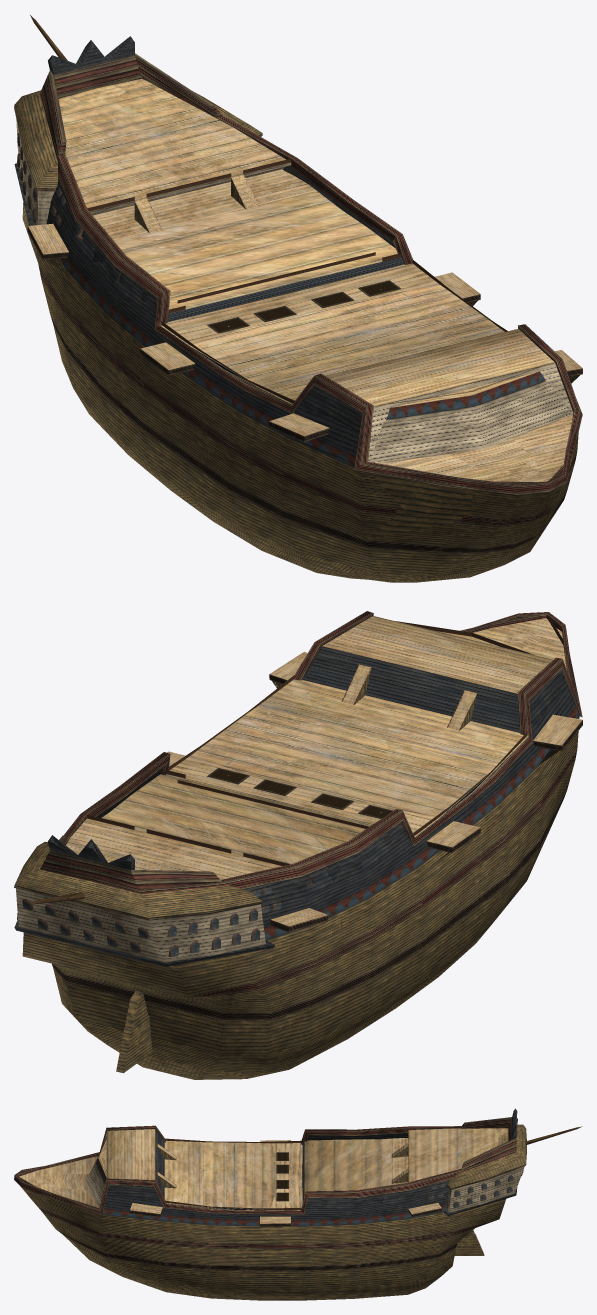
The model's file is pir_m_shp_cas_goliath.fbx.
3 views of the same model, one above another, from view 1: azimuth 30°, elevation 25°; view 2: azimuth 150°, elevation 25°; view 3: azimuth 270°, elevation 25° (orthographic). The views are drawn at different scales.
Visible parts, largest first — view 1: deck.004, deck.003, hull_wood_bottom.001, trim_stripe_right.001, hull_wood_C.001, hull_wood_A.001, bulwark_front.002, deck.002, hull_wood_A.002, hull_wood_C.002, hull_wood_bottom.002, hull_wood_B.001 (+23 smaller); view 2: deck.004, deck.003, hull_wood_bottom.001, hull_wood_bottom.002, hull_wood_C.002, cabin_walls, trim_stripe_right.001, hull_wood_C.001, bulwark_back1.002, hull_wood_A.001, wall_capt_quart_A2.001, hull_wood_A.002 (+20 smaller); view 3: deck.004, hull_wood_bottom.001, deck.003, hull_wood_C.001, trim_stripe_right.001, hull_wood_C.002, hull_wood_A.001, hull_wood_A.002, hull_wood_B12.002, hull_wood_bottom.002, hull_stripe_A_1.001, hull_wood_B12.001 (+17 smaller).
Boxes of the visible parts, left/top/right/bottom form: deck.004: left=65, top=150, right=572, bottom=481; deck.003: left=58, top=78, right=538, bottom=479; hull_wood_bottom.001: left=53, top=325, right=562, bottom=576; trim_stripe_right.001: left=57, top=75, right=582, bottom=494; hull_wood_C.001: left=38, top=253, right=562, bottom=519; hull_wood_A.001: left=41, top=279, right=564, bottom=547; bulwark_front.002: left=370, top=383, right=571, bottom=463; deck.002: left=58, top=78, right=538, bottom=407; hull_wood_A.002: left=142, top=391, right=574, bottom=543; hull_wood_C.002: left=22, top=202, right=578, bottom=516; hull_wood_bottom.002: left=217, top=512, right=529, bottom=582; hull_wood_B.001: left=48, top=178, right=359, bottom=456; deck.004: left=65, top=616, right=566, bottom=879; deck.003: left=66, top=630, right=538, bottom=879; hull_wood_bottom.001: left=195, top=849, right=539, bottom=1079; hull_wood_bottom.002: left=53, top=804, right=561, bottom=1079; hull_wood_C.002: left=22, top=716, right=579, bottom=996; cabin_walls: left=16, top=888, right=265, bottom=962; trim_stripe_right.001: left=63, top=611, right=582, bottom=889; hull_wood_C.001: left=250, top=766, right=540, bottom=981; bulwark_back1.002: left=302, top=646, right=520, bottom=732; hull_wood_A.001: left=261, top=810, right=541, bottom=1012; wall_capt_quart_A2.001: left=15, top=841, right=262, bottom=917; hull_wood_A.002: left=53, top=760, right=575, bottom=1012; deck.004: left=19, top=1129, right=461, bottom=1210; hull_wood_bottom.001: left=63, top=1235, right=438, bottom=1300; deck.003: left=31, top=1128, right=507, bottom=1210; hull_wood_C.001: left=21, top=1187, right=456, bottom=1243; trim_stripe_right.001: left=14, top=1125, right=508, bottom=1215; hull_wood_C.002: left=43, top=1196, right=505, bottom=1243; hull_wood_A.001: left=43, top=1213, right=449, bottom=1266; hull_wood_A.002: left=54, top=1217, right=474, bottom=1266; hull_wood_B12.002: left=104, top=1179, right=450, bottom=1220; hull_wood_bottom.002: left=90, top=1248, right=455, bottom=1298; hull_stripe_A_1.001: left=56, top=1229, right=439, bottom=1271; hull_wood_B12.001: left=164, top=1201, right=447, bottom=1220.
Bounding box in the file's own units: 20024 × 18764 × 57761.
Materials: 2 (2 with a texture image).
